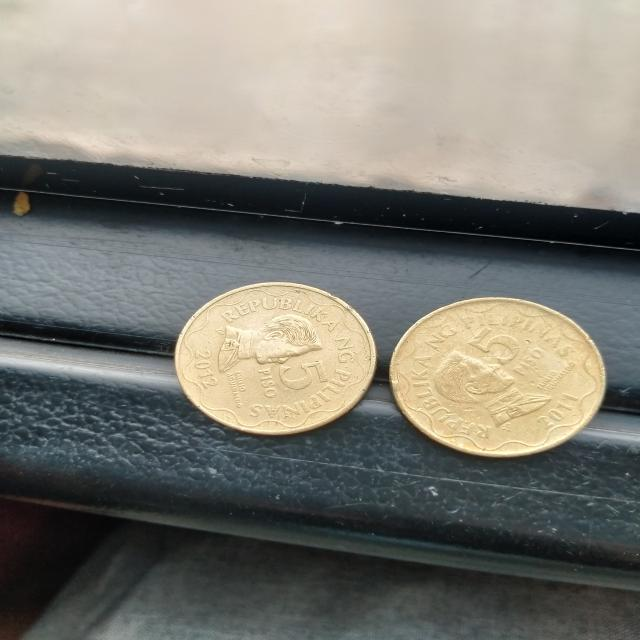5_Old_Front: (248, 343, 342, 402), (464, 316, 544, 382)
